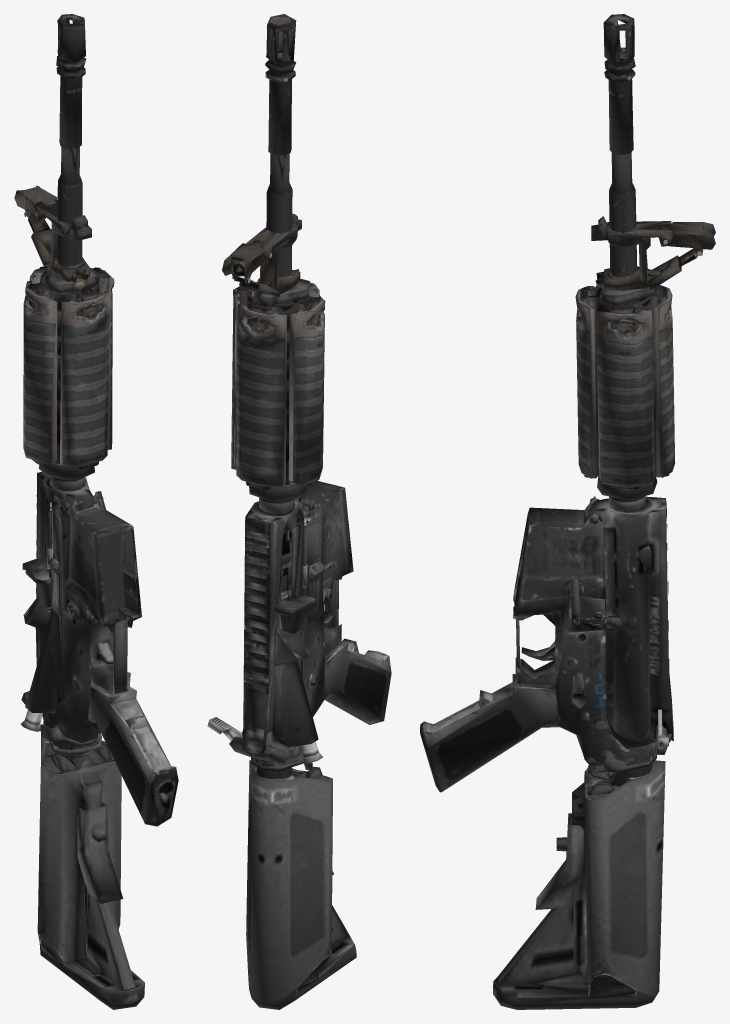
File: M4A1NoMag.fbx
3 renders of one model, left to right at view 1: azimuth 30°, elevation 25°; view 2: azimuth 150°, elevation 25°; view 3: azimuth 270°, elevation 25°, orthographic. The views are drawn at different scales.
Parts seen in each view (by area): view 1: M4A1; view 2: M4A1; view 3: M4A1.
Part boxes in pixels (x1,y1,x2,y2): M4A1: (14, 14, 178, 1009); M4A1: (207, 14, 391, 1009); M4A1: (420, 14, 715, 1009).
Bounding box in the file's own units: 0.0523 × 0.5134 × 0.1402.
